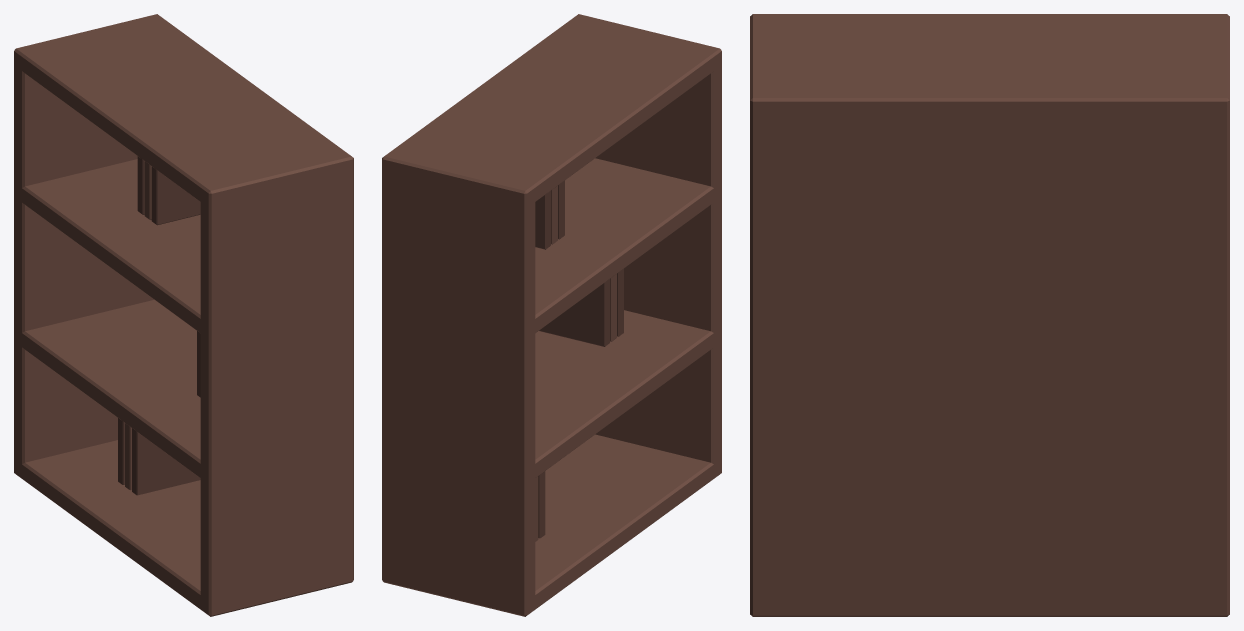
Rendered from etagere_perimetre.glb.
3 renders of one model, left to right at view 1: azimuth 30°, elevation 25°; view 2: azimuth 150°, elevation 25°; view 3: azimuth 270°, elevation 25°, orthographic. The views are drawn at different scales.
Parts seen in each view (by area): view 1: etagere_perimetre; view 2: etagere_perimetre; view 3: etagere_perimetre.
Part boxes in pixels (bbox=[...]): etagere_perimetre: bbox=[14, 14, 353, 616]; etagere_perimetre: bbox=[382, 14, 721, 616]; etagere_perimetre: bbox=[750, 14, 1229, 616].
Bounding box in the file's own units: 0.66 × 1.85 × 1.55.
1 material, 1 textured.
